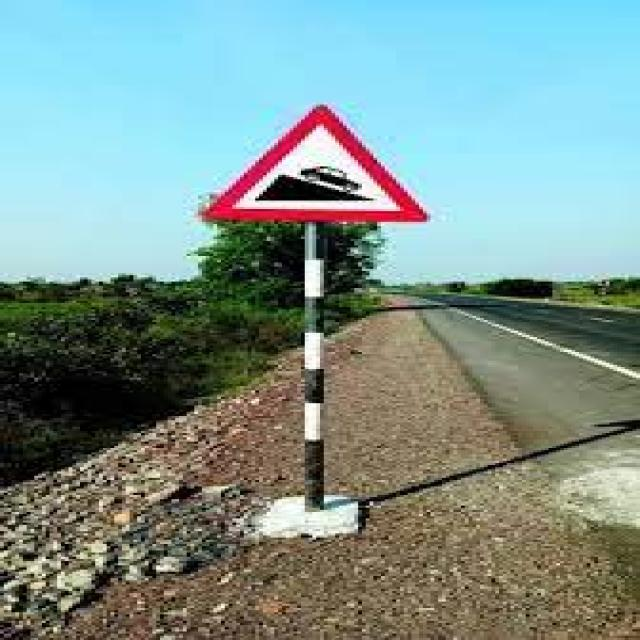steep descent: (190, 101, 427, 223)
